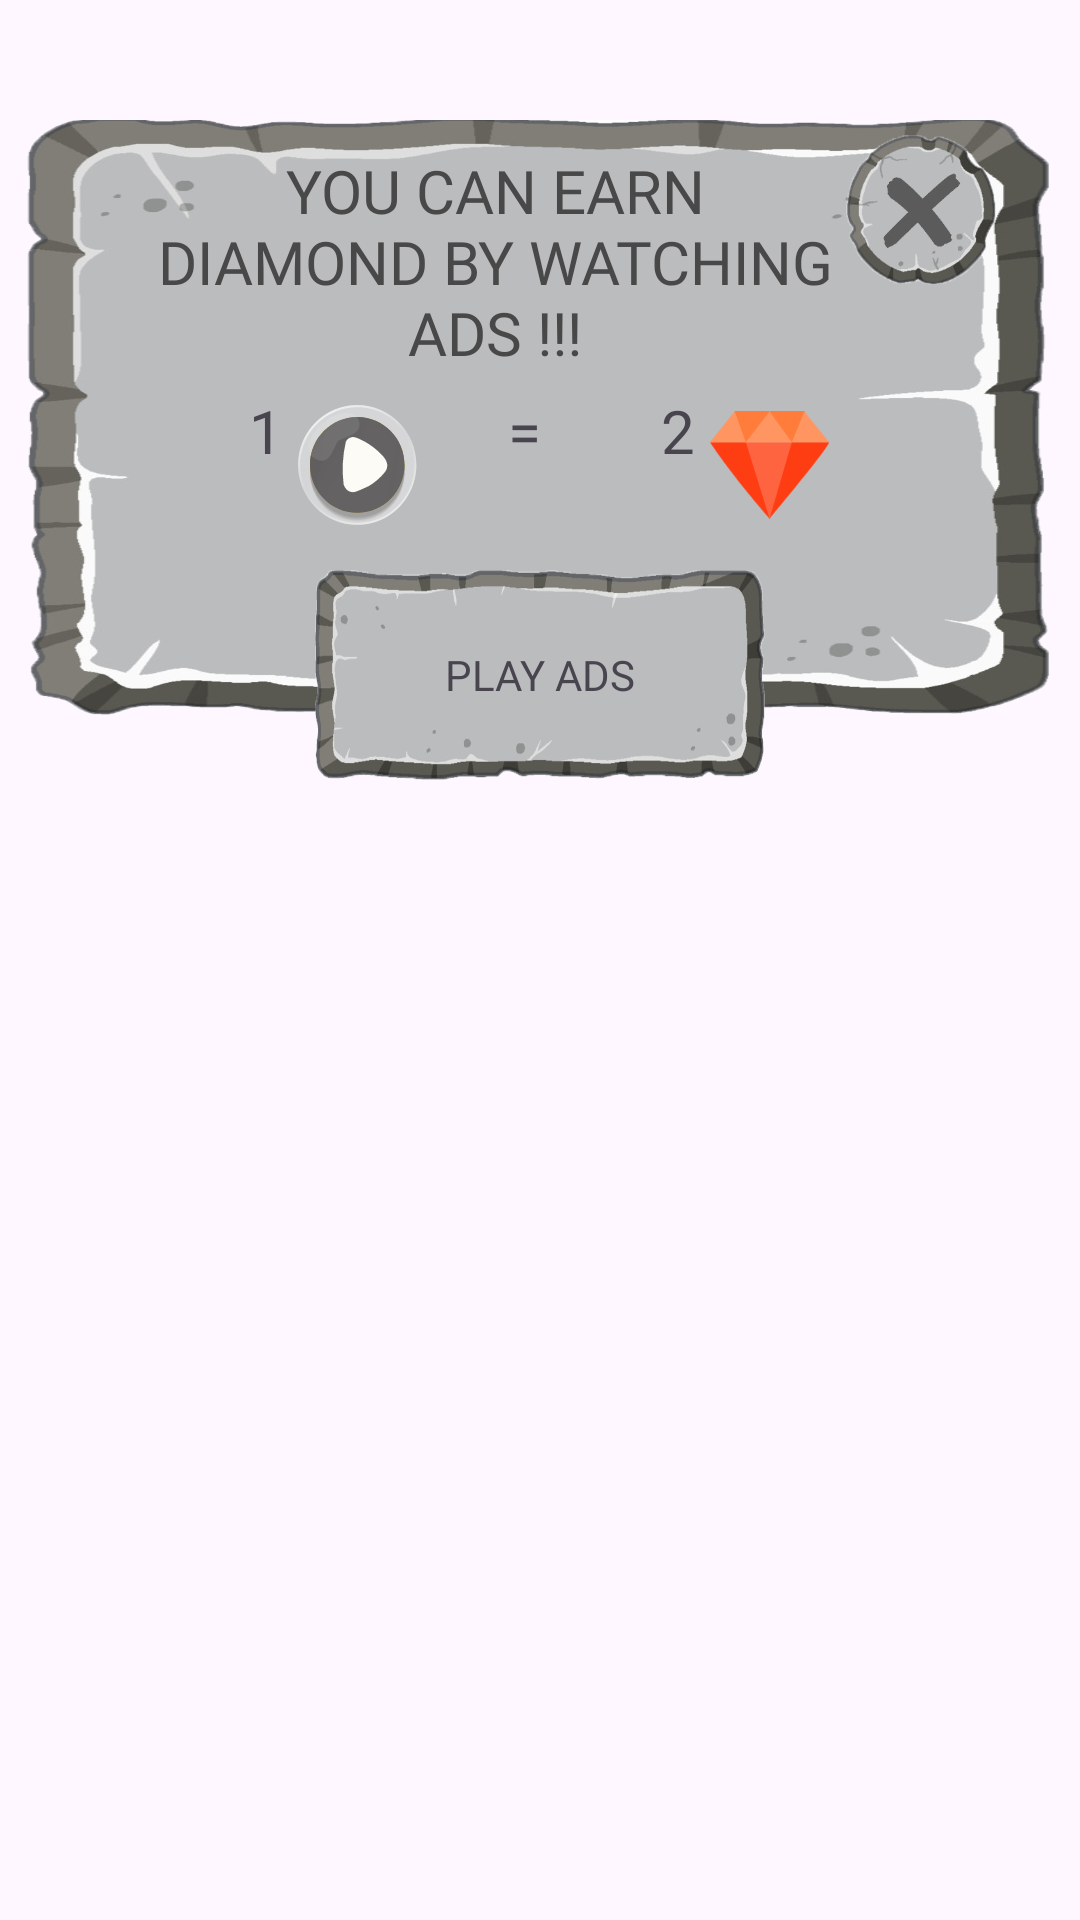

Point at icon controls on the screen. Image size 1080px×1920px, points as (x,y).
dimond: (769,465)
dismiss: (921,210)
